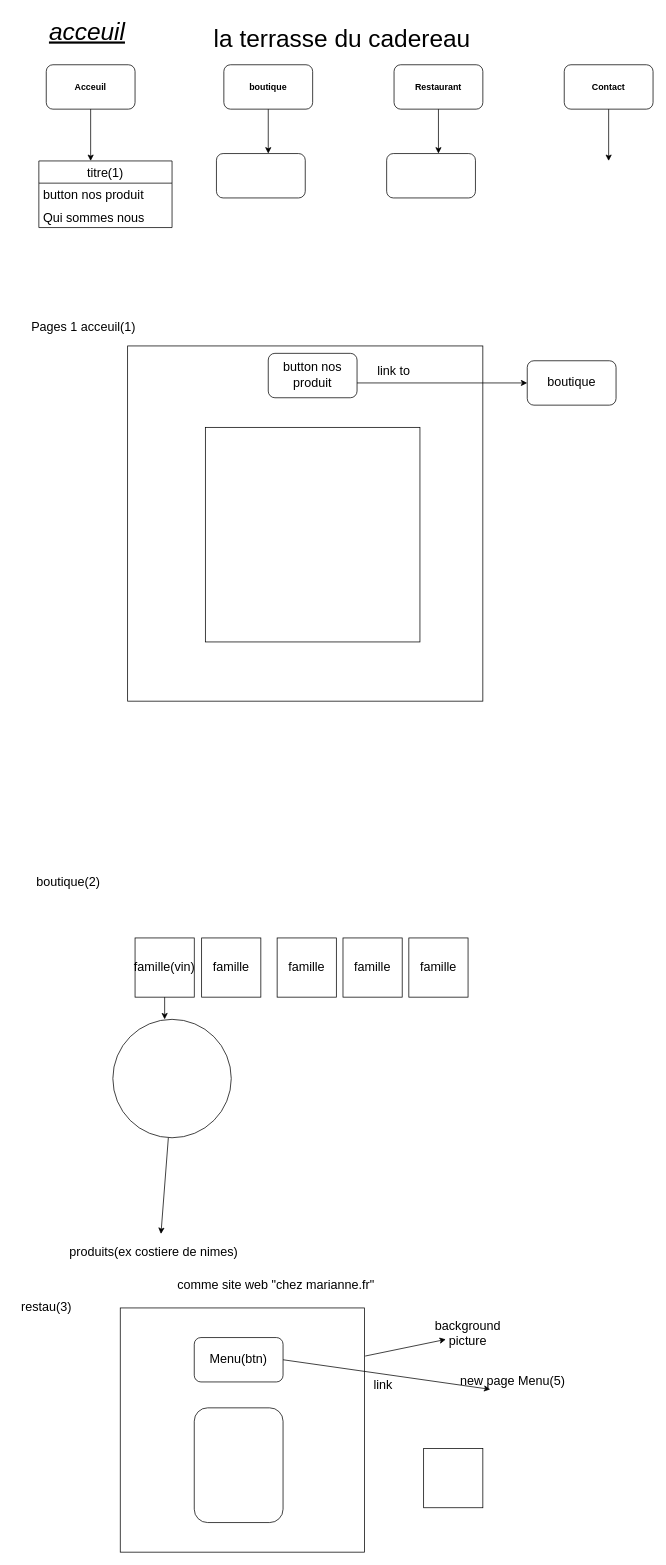
Some shapes in this 666 by 1565 pixel diagram are drawn without their labels. Here are the shapes that lost their labels. From the top down, the centre of each, then its label:
At (260,175): "Categories(2)".
At (312,534): "qui sommes nous?".
At (171,1078): "sous familles (blanc rouge rosé)".
At (238,1465): "descriptif".
